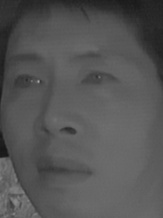eye: (78, 67, 117, 91), (10, 69, 45, 95)
mouth: (33, 150, 93, 189)
